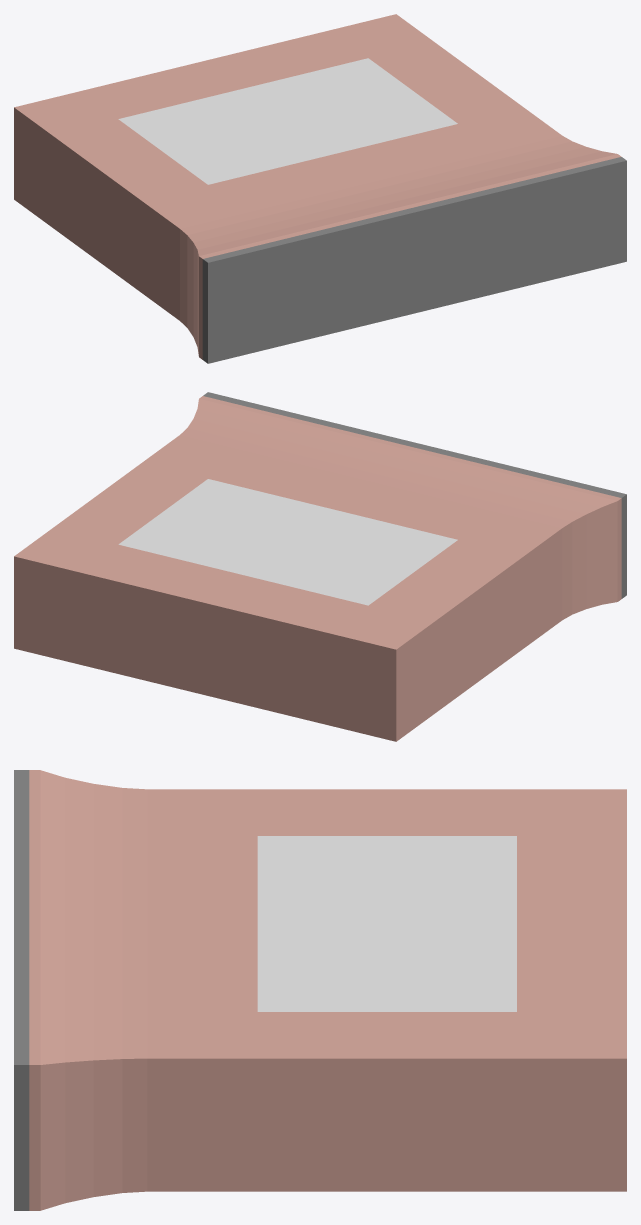
Rendered from WallAsset.fbx.
3 renders of one model, top to bottom at view 1: azimuth 30°, elevation 25°; view 2: azimuth 150°, elevation 25°; view 3: azimuth 270°, elevation 25°, orthographic. The views are drawn at different scales.
Visible parts, largest first — view 1: Cube.003; view 2: Cube.003; view 3: Cube.003.
Part boxes in pixels (x1,y1,x2,y2): Cube.003: (14,14,626,363); Cube.003: (14,392,626,741); Cube.003: (14,770,626,1210).
Size of the model in its own units: 951 by 219 by 835.
